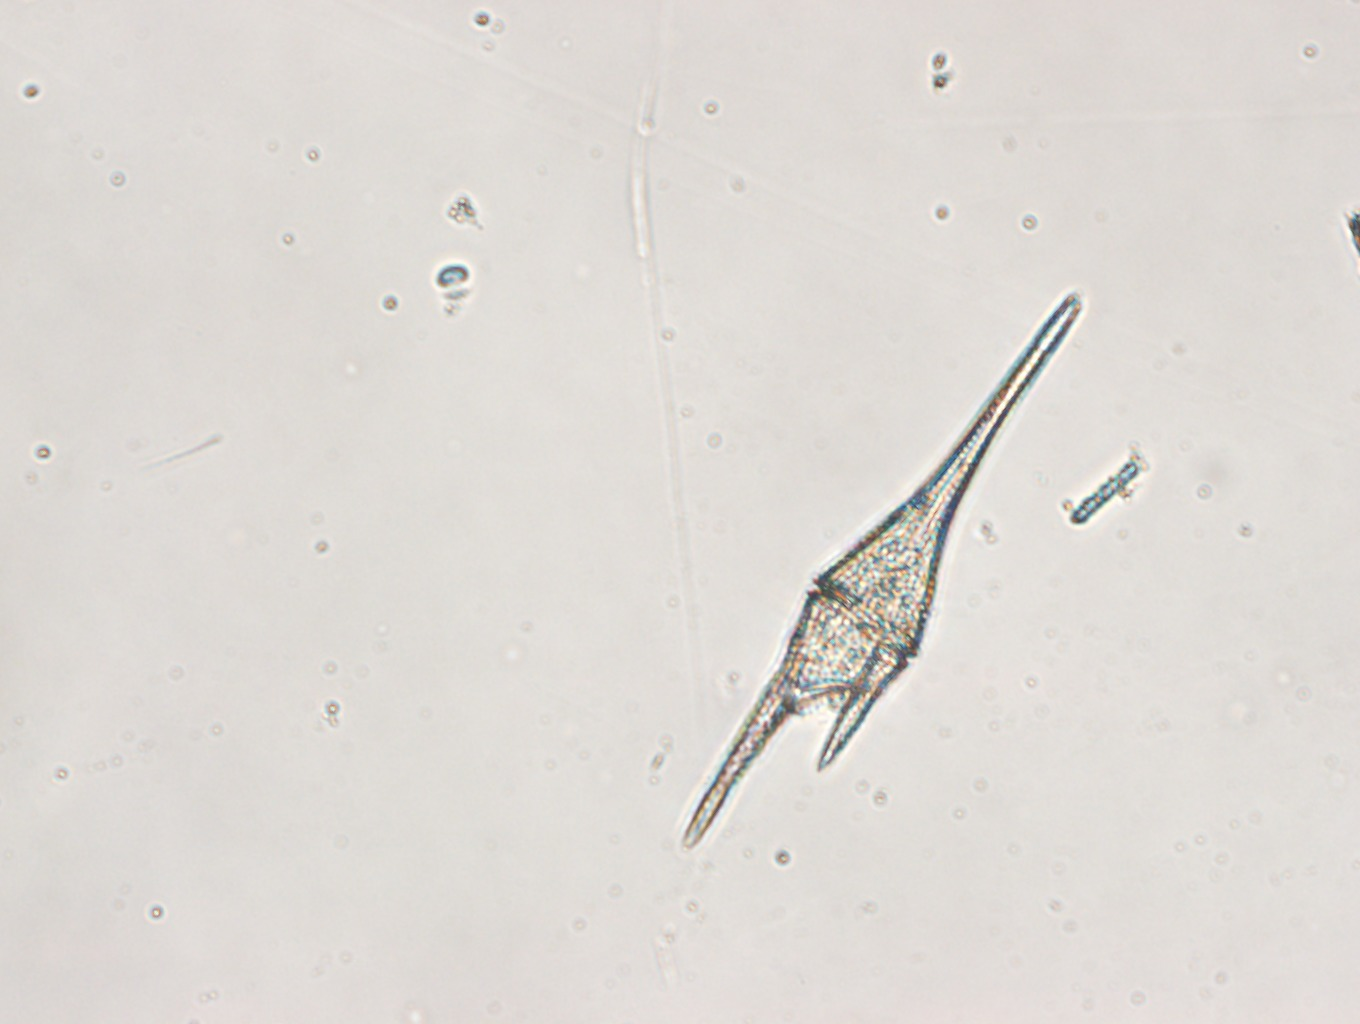ceratium furca: (679, 286, 1090, 853)
